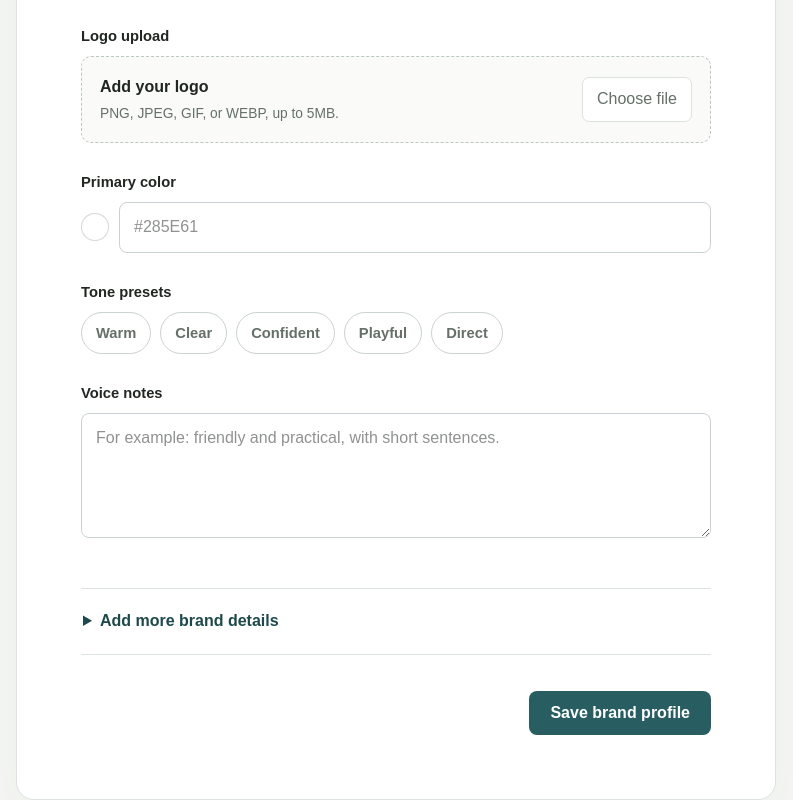
BrandProfileForm › shows plain-language errors for missing required inputs
(page scrolled)
Click the button "Save brand profile" at x=620, y=713, box [529,691,711,735]
(page scrolled)
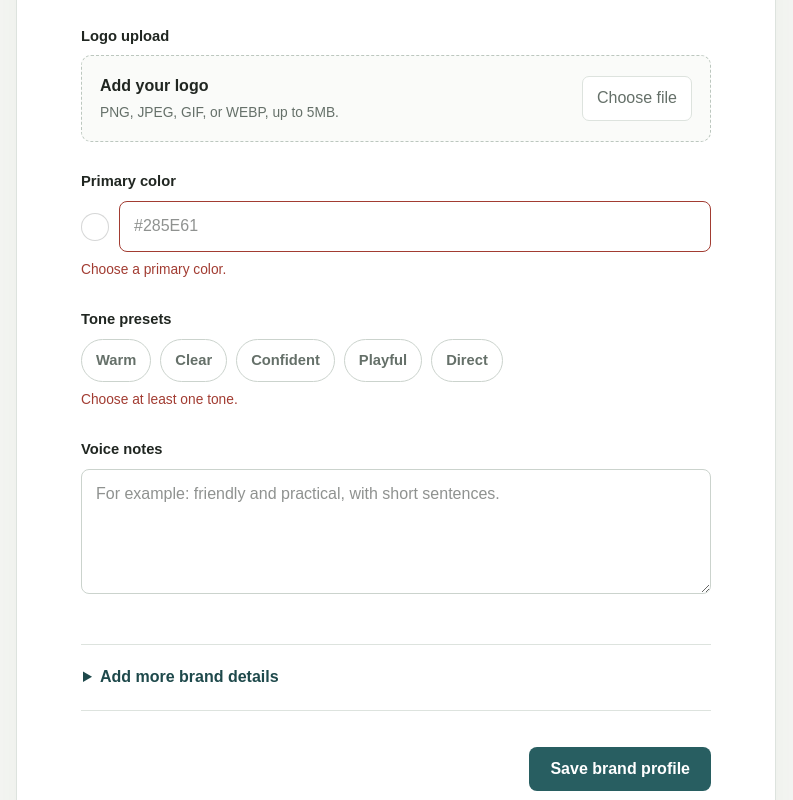
Expected: the text "Choose a primary color." is shown, [81,262,226,277]
Expected: the text "Choose at least one tone." is shown, [81,392,238,407]
